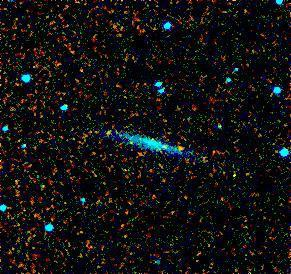star: (167, 138, 197, 168)
